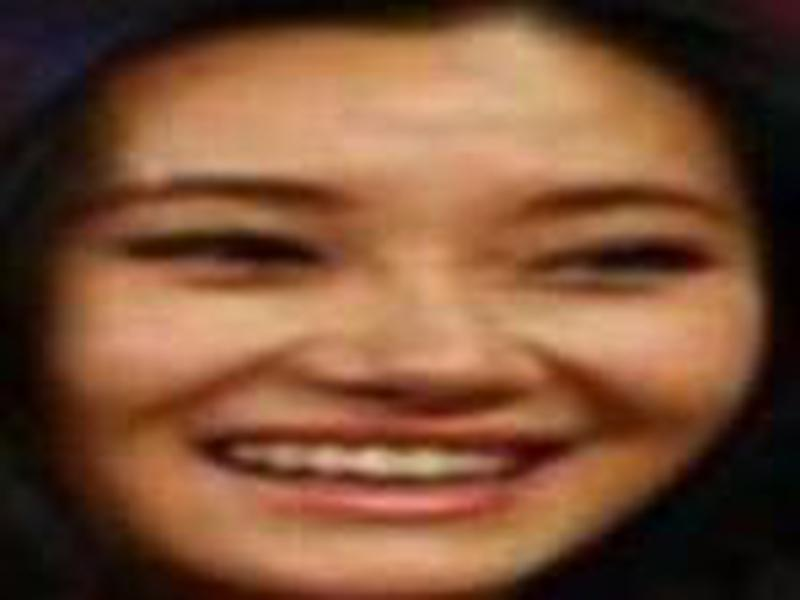without_mask: (46, 74, 765, 597)
